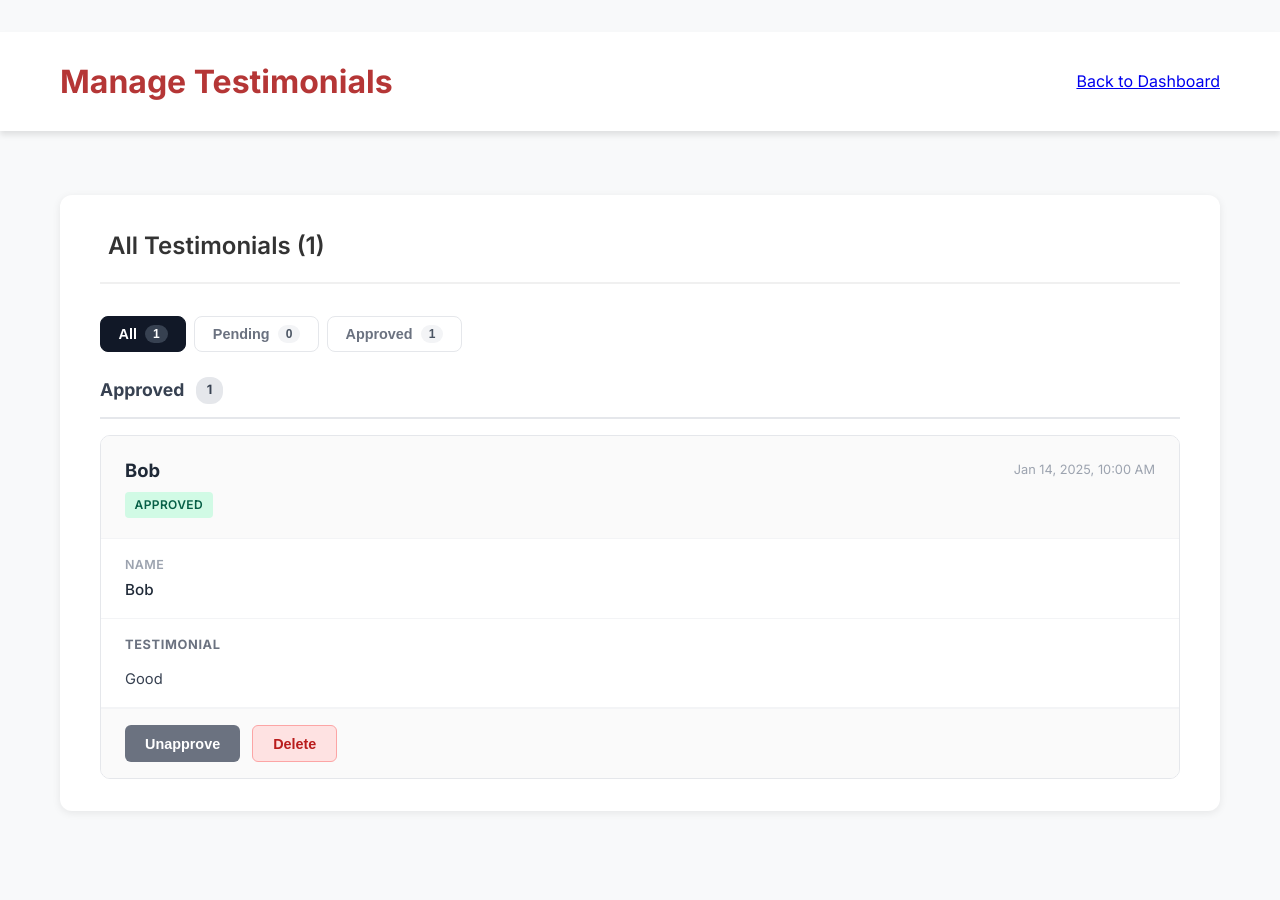
Test: AdminTestimonials › shows no pending message when filtering pending with none
Expected: the heading "All Testimonials (1)" is shown, [108, 227, 325, 266]
Click the button with class "status-filter-pending": (257, 334) [194, 316, 319, 352]
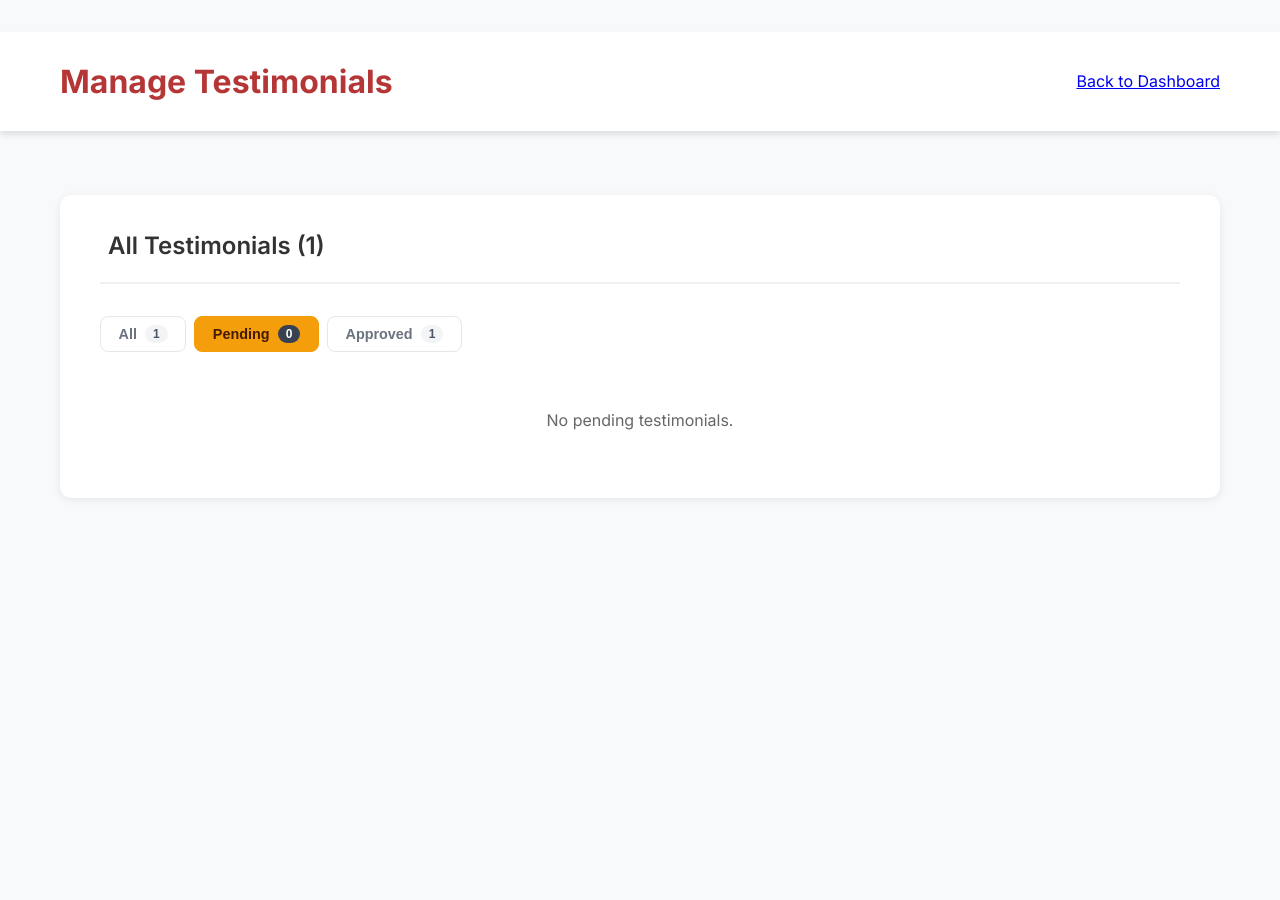
Expected: the text "No pending testimonials." is shown, [546, 410, 734, 430]
